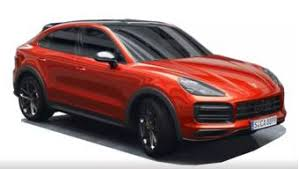car: (5, 15, 292, 168)
